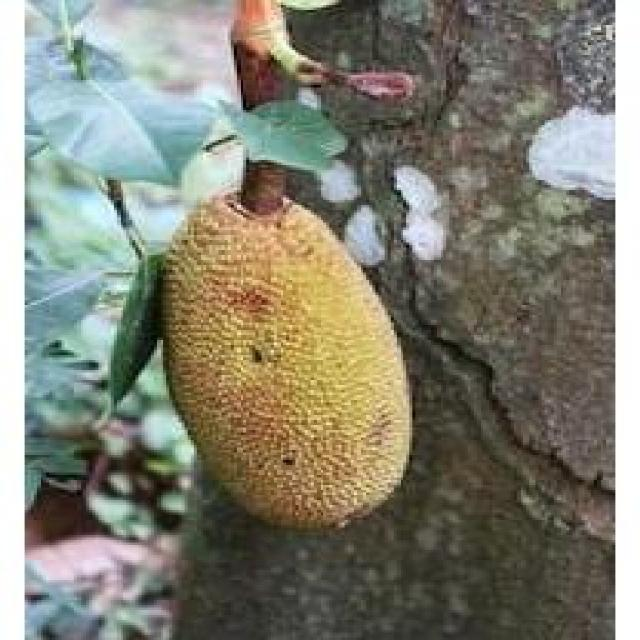Fruit: (126, 160, 443, 562)
